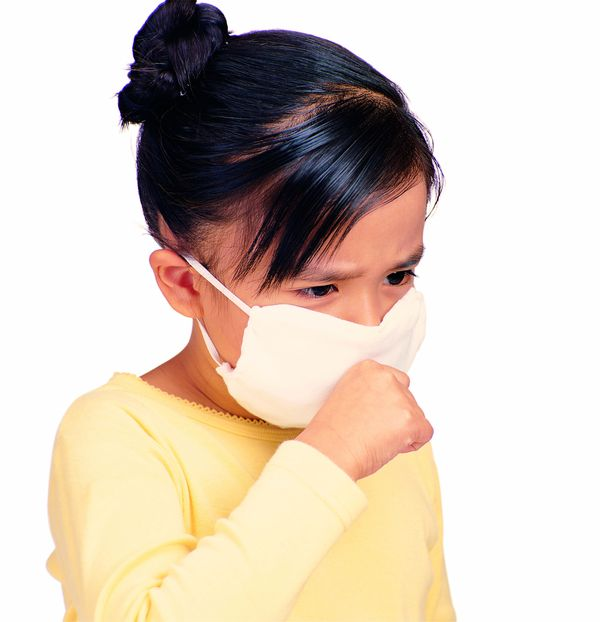face_mask: (219, 146, 432, 427)
